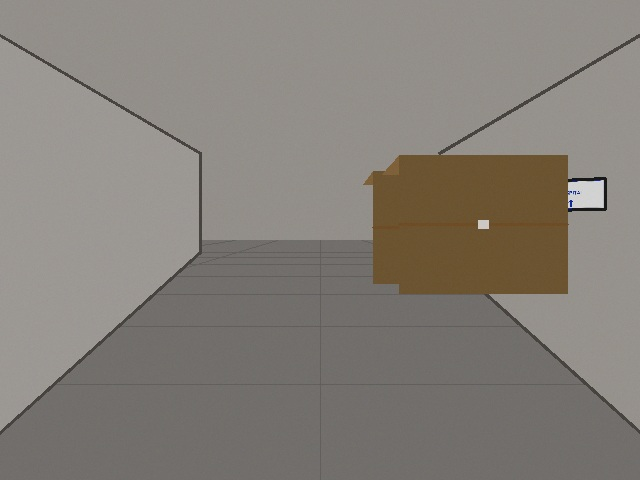box: (382, 155, 567, 293), (363, 171, 510, 283)
directional_sign: (538, 178, 605, 210)
